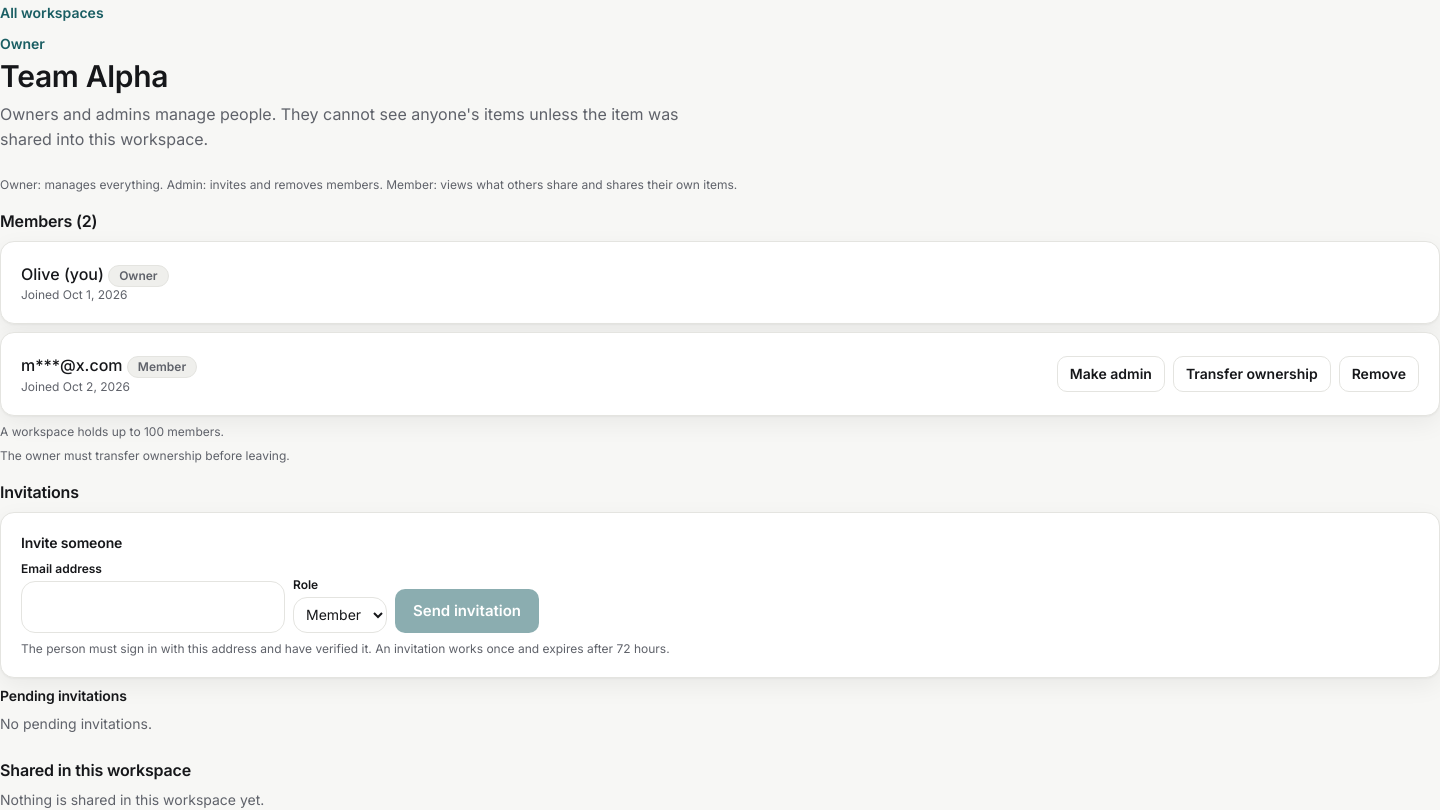
Test case: proposing a transfer › states every consequence, defaults the former owner to a member and lets the owner keep an admin role instead
This screenshot has width=1440, height=810.
Click the button "Transfer ownership".
click(1252, 374)  # box [1173,356,1331,392]
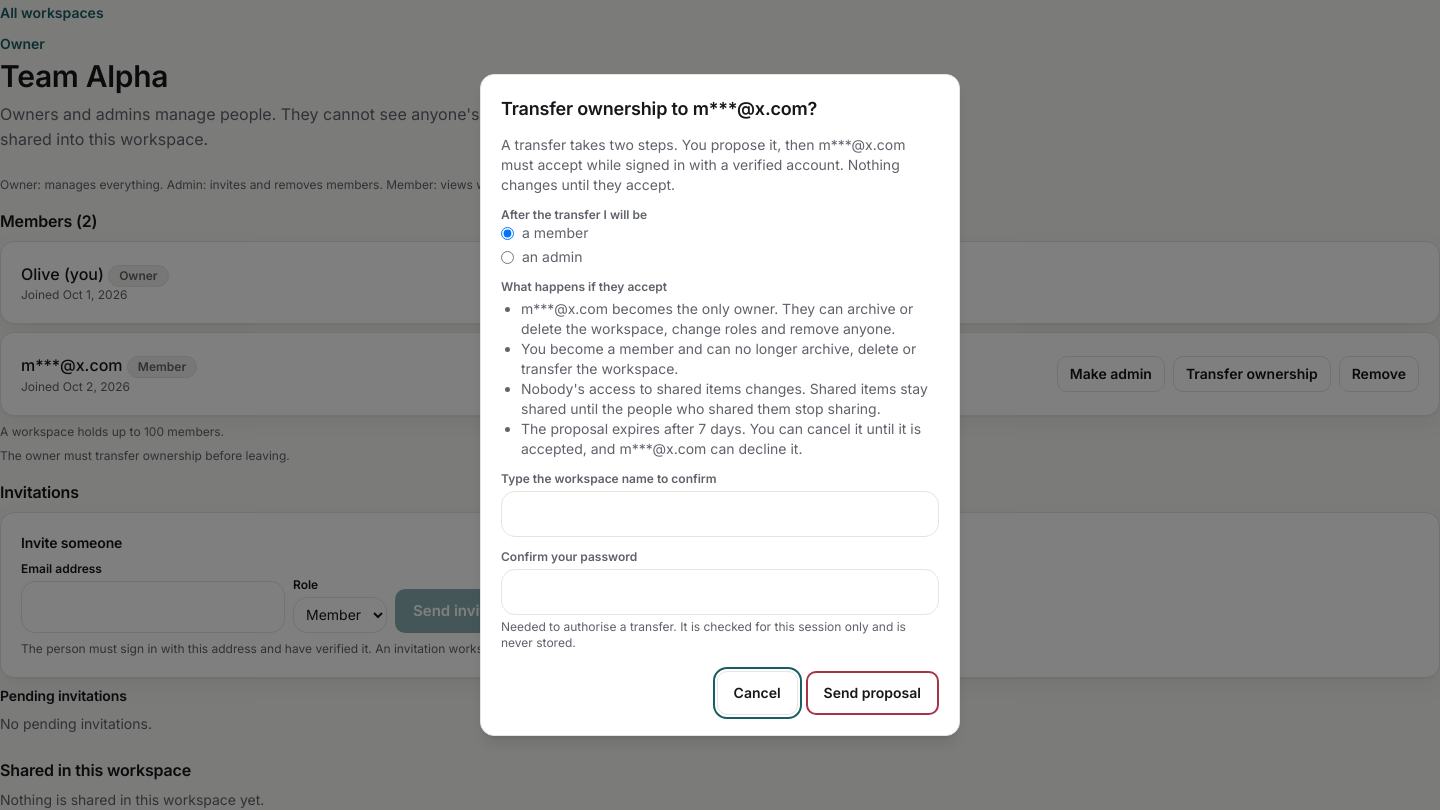
Now the list item "Nobody's access to shared items changes. Shared items stay shared until the people who shared them stop sharing." is shown, box [521,380,928,417]
Click the radio button labelled "an admin".
click(508, 257)  # box [501,250,514,264]
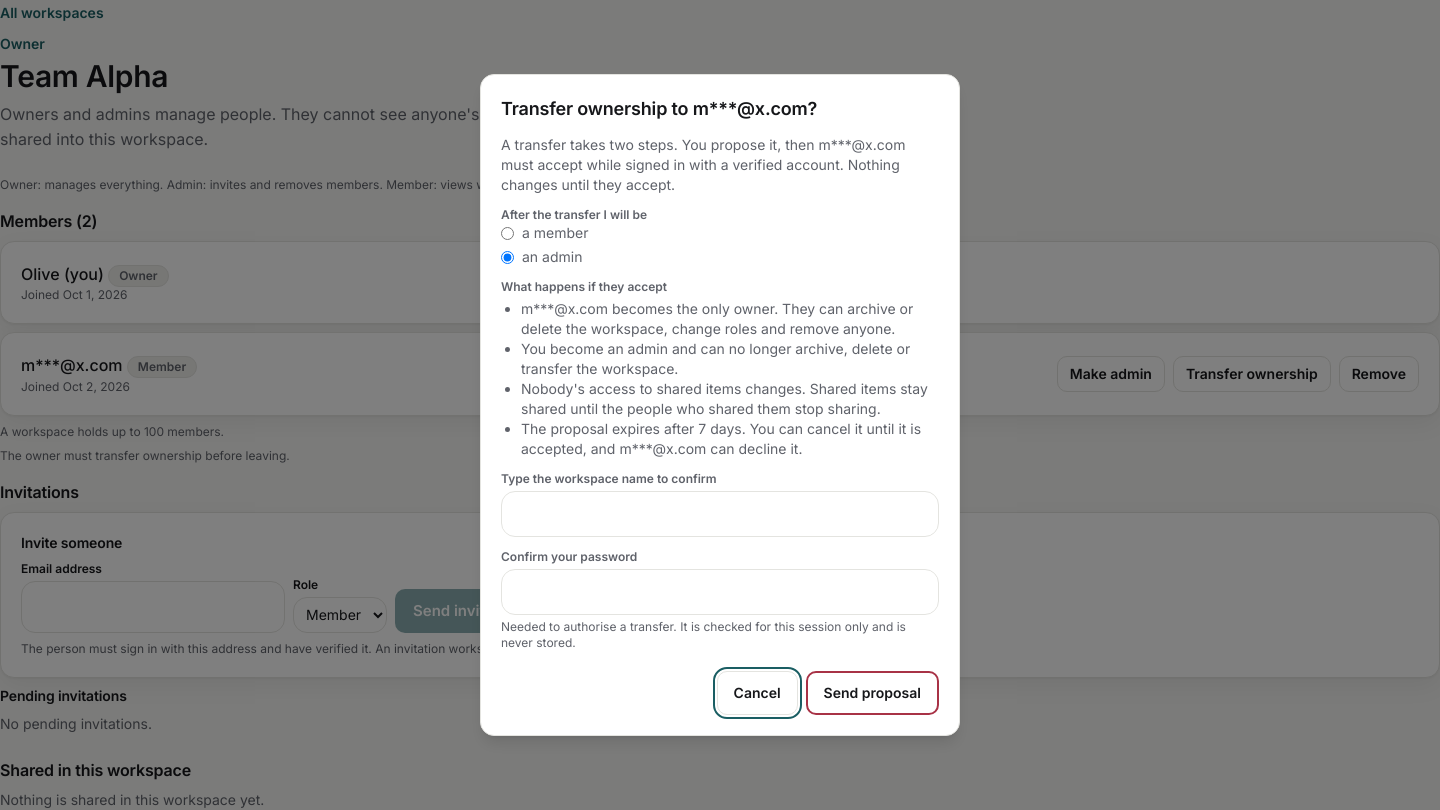
Type "Team Alpha" into the field labelled "Type the workspace name to confirm".
click(720, 514); type("Team Alpha")  # box [501,491,939,537]
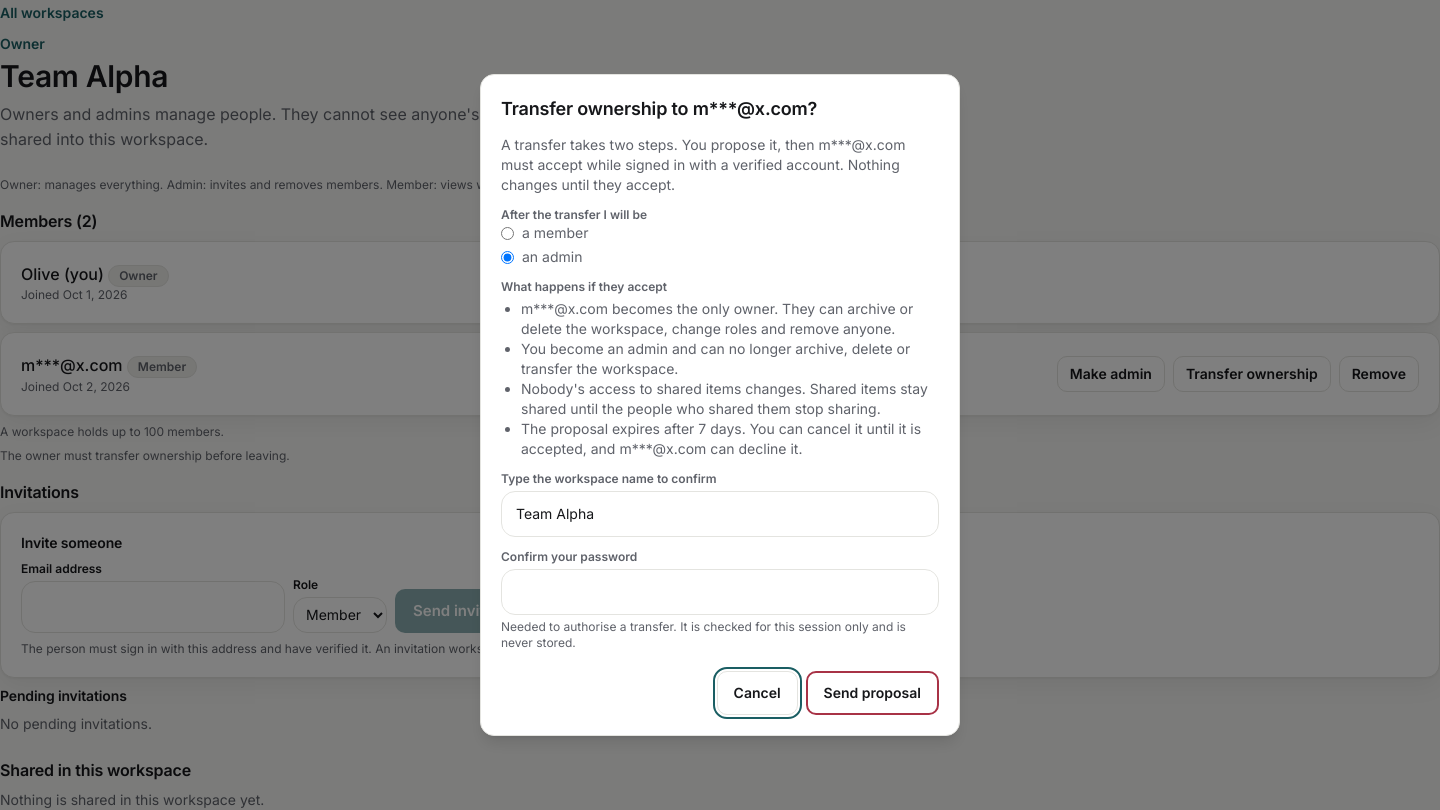
Type "secret-pw" into the password field labelled "Confirm your password".
click(720, 592); type("secret-pw")  # box [501,569,939,615]
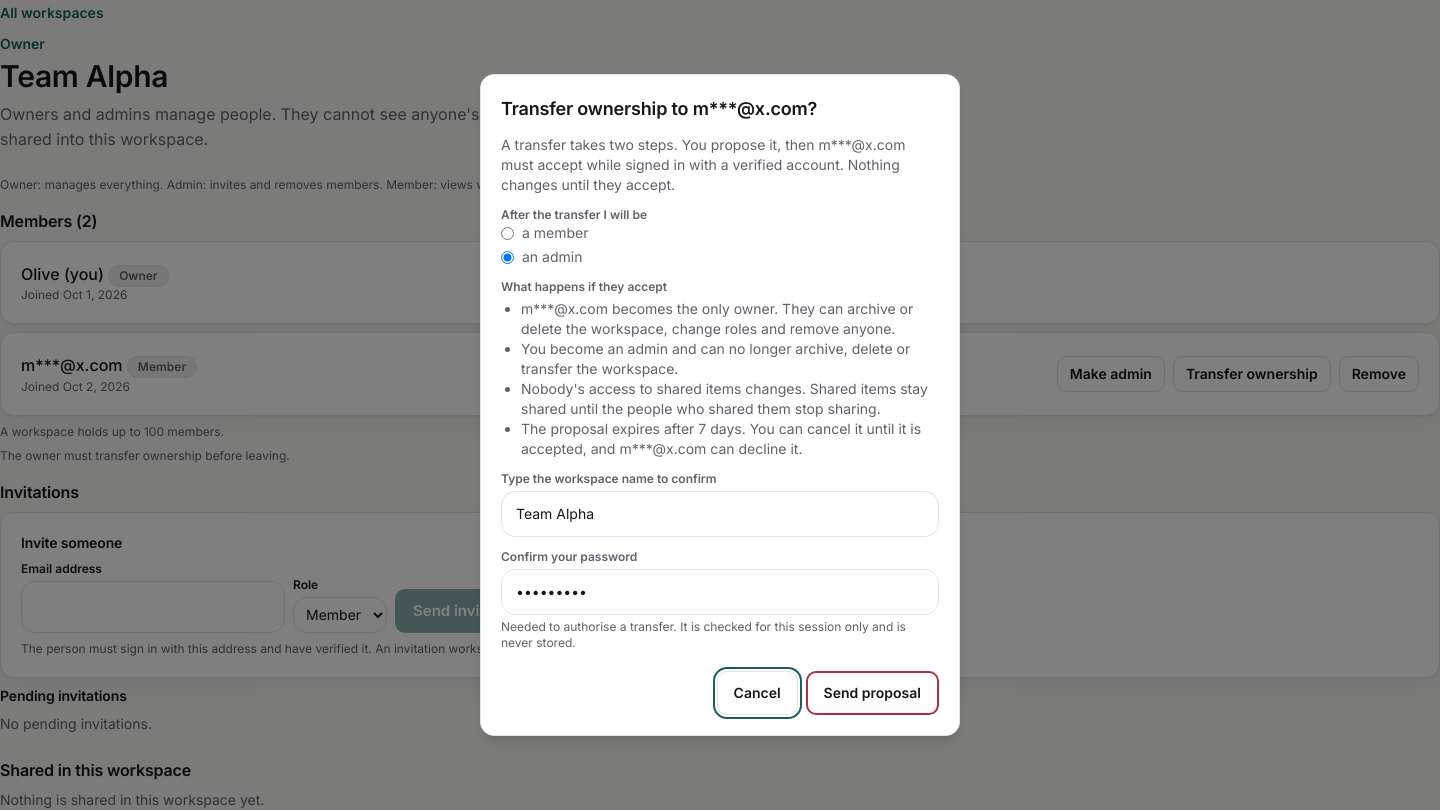
Click the button "Send proposal".
click(872, 693)  # box [806,671,939,715]
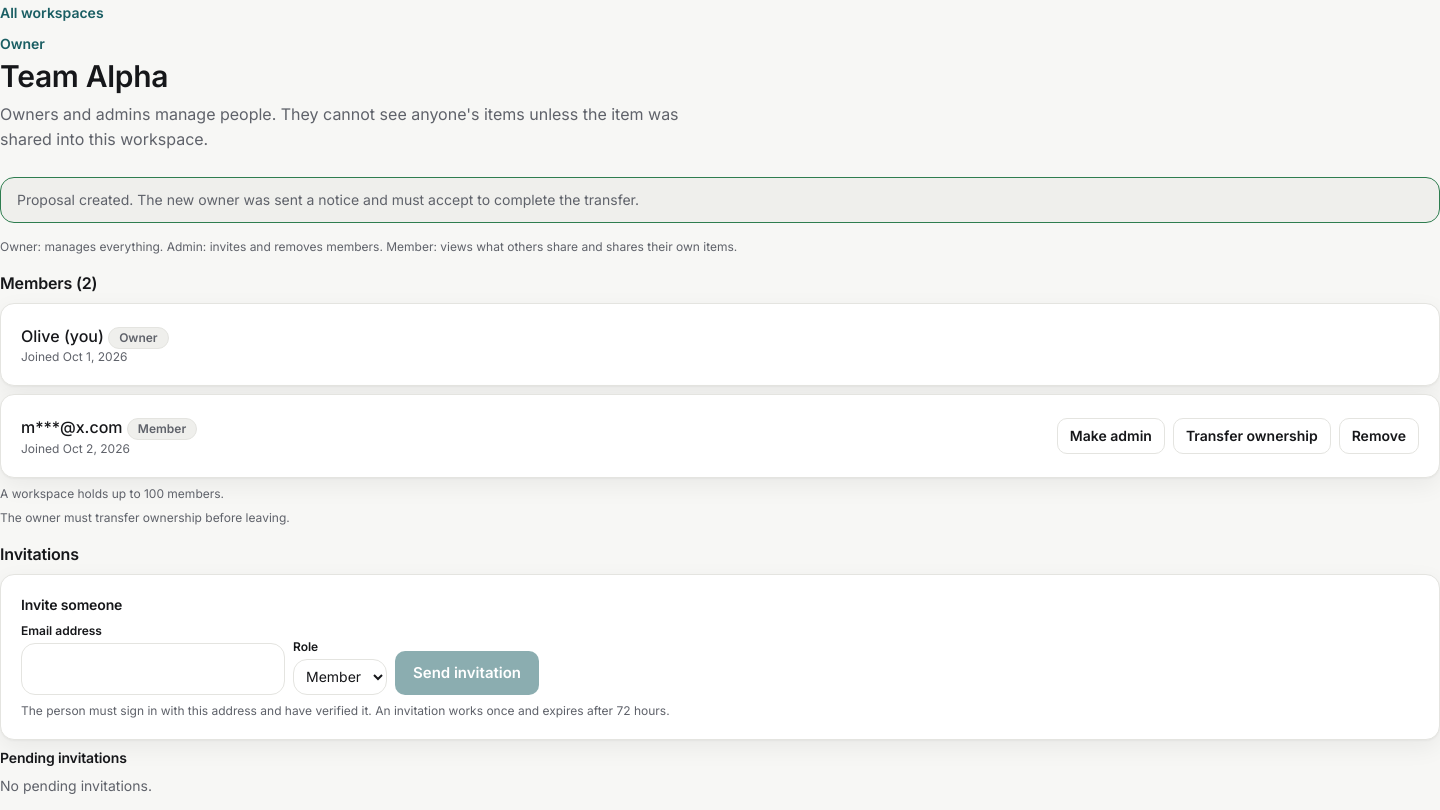
Now the text "Proposal created. The new owner was sent a notice and must accept to complete the transfer." is shown, box [17,191,639,208]
